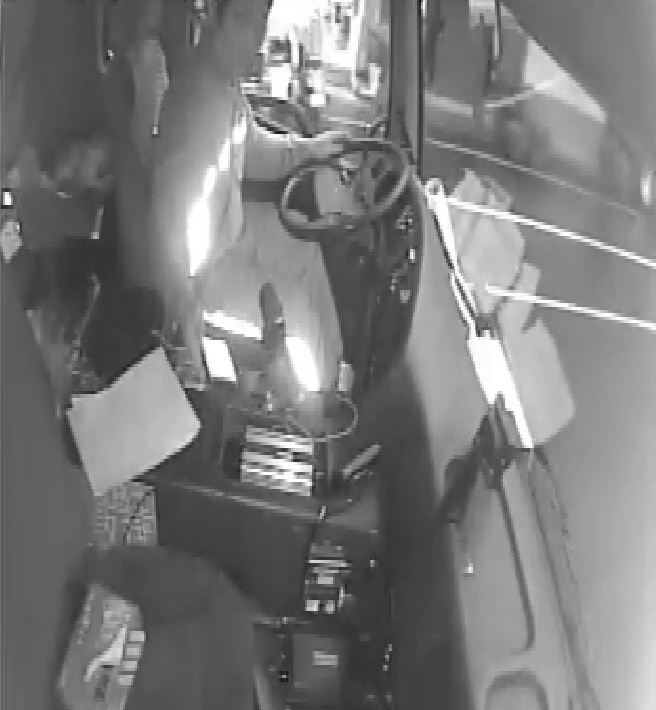cellphone: (201, 336, 238, 386)
